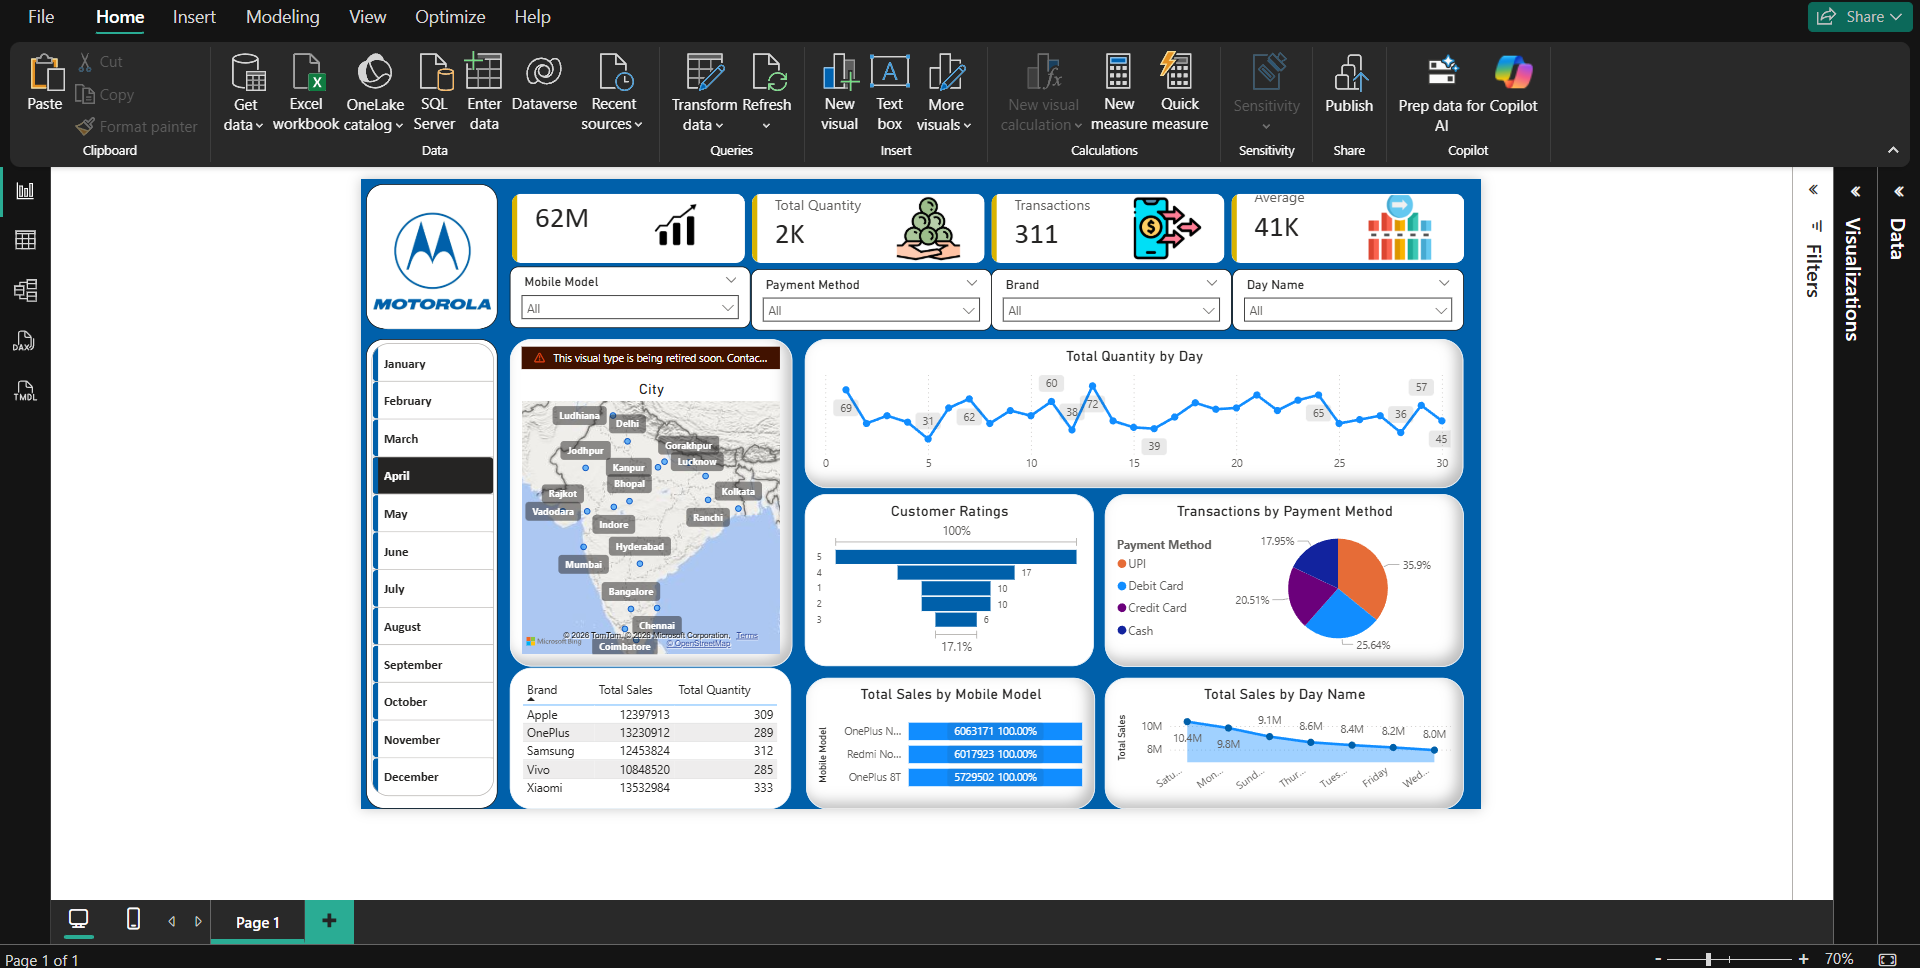

The dashboard page shown, as its layout file describes it:
{"tool":"powerbi","page":{"name":"Page 1","canvas":[1280,720],"ordinal":0},"visuals":[{"type":"shape","box":[5.7,5.7,150,165.7],"z":0},{"type":"image","box":[11.4,17.1,140,154.3],"z":1000},{"type":"shape","box":[5.7,182.9,150,537.1],"z":2000},{"type":"advancedSlicerVisual","fields":{"Values":["Sheet1.Date.Variation.Date Hierarchy.Month"]},"box":[7.1,182.9,150,537.1],"z":3000},{"type":"cardVisual","fields":{"Data":["Sheet1.Total Sales","Sheet1.Total Quantity","Sheet1.Transactions","Sheet1.Average"]},"box":[155.6,0,1122.2,113.3],"z":4000},{"type":"map","fields":{"Category":["Sheet1.City"]},"box":[170,182.9,322.9,374.3],"z":5000},{"type":"lineChart","fields":{"Y":["Sheet1.Total Quantity"],"Category":["Sheet1.Date.Variation.Date Hierarchy.Month","Sheet1.Date.Variation.Date Hierarchy.Day"]},"box":[507.5,182.5,752.5,170],"z":6000},{"type":"hundredPercentStackedBarChart","fields":{"Category":["Sheet1.Mobile Model"],"Y":["Sheet1.Total Sales"]},"box":[508.6,570,330,150],"z":7000},{"type":"pieChart","fields":{"Category":["Sheet1.Payment Method"],"Y":["Sheet1.Transactions"]},"box":[850,360,410,197.5],"z":8000},{"type":"funnel","title":"Customer Ratings ","fields":{"Category":["Sheet1.Customer Ratings"],"Y":["CountNonNull(Sheet1.Customer Ratings)"]},"box":[507.1,360,330,197.1],"z":9000},{"type":"areaChart","fields":{"Category":["Sheet1.Day Name"],"Y":["Sheet1.Total Sales"]},"box":[850,570,410,150],"z":10000},{"type":"tableEx","fields":{"Values":["Sheet1.Brand","Sheet1.Total Sales","Sheet1.Total Quantity"]},"box":[170,558.6,321.4,161.4],"z":11000},{"type":"slicer","fields":{"Values":["Sheet1.Mobile Model"]},"box":[170,100,275.6,70],"z":12000},{"type":"slicer","fields":{"Values":["Sheet1.Payment Method"]},"box":[445,102.5,275,70],"z":13000},{"type":"slicer","fields":{"Values":["Sheet1.Brand"]},"box":[720,102.5,275,70],"z":14000},{"type":"slicer","fields":{"Values":["Sheet1.Day Name"]},"box":[995,102.5,265,70],"z":15000}]}

Visuals, with their boxes on the page's 1280x720 design canvas (x1, y1, x2, y2). These are canvas units, not pixel positions in the 1920x968 screenshot, which may show the page scaled, cropped or inside an application window:
shape: locate(6, 6, 156, 171)
image: locate(11, 17, 151, 171)
shape: locate(6, 183, 156, 720)
advancedSlicerVisual - Sheet1.Date.Variation.Date Hierarchy.Month: locate(7, 183, 157, 720)
cardVisual - Sheet1.Total Sales x Sheet1.Total Quantity: locate(156, 0, 1278, 113)
map - Sheet1.City: locate(170, 183, 493, 557)
lineChart - Sheet1.Total Quantity x Sheet1.Date.Variation.Date Hierarchy.Month: locate(508, 182, 1260, 352)
hundredPercentStackedBarChart - Sheet1.Mobile Model x Sheet1.Total Sales: locate(509, 570, 839, 720)
pieChart - Sheet1.Payment Method x Sheet1.Transactions: locate(850, 360, 1260, 558)
"Customer Ratings " funnel: locate(507, 360, 837, 557)
areaChart - Sheet1.Day Name x Sheet1.Total Sales: locate(850, 570, 1260, 720)
tableEx - Sheet1.Brand x Sheet1.Total Sales: locate(170, 559, 491, 720)
slicer - Sheet1.Mobile Model: locate(170, 100, 446, 170)
slicer - Sheet1.Payment Method: locate(445, 102, 720, 172)
slicer - Sheet1.Brand: locate(720, 102, 995, 172)
slicer - Sheet1.Day Name: locate(995, 102, 1260, 172)
